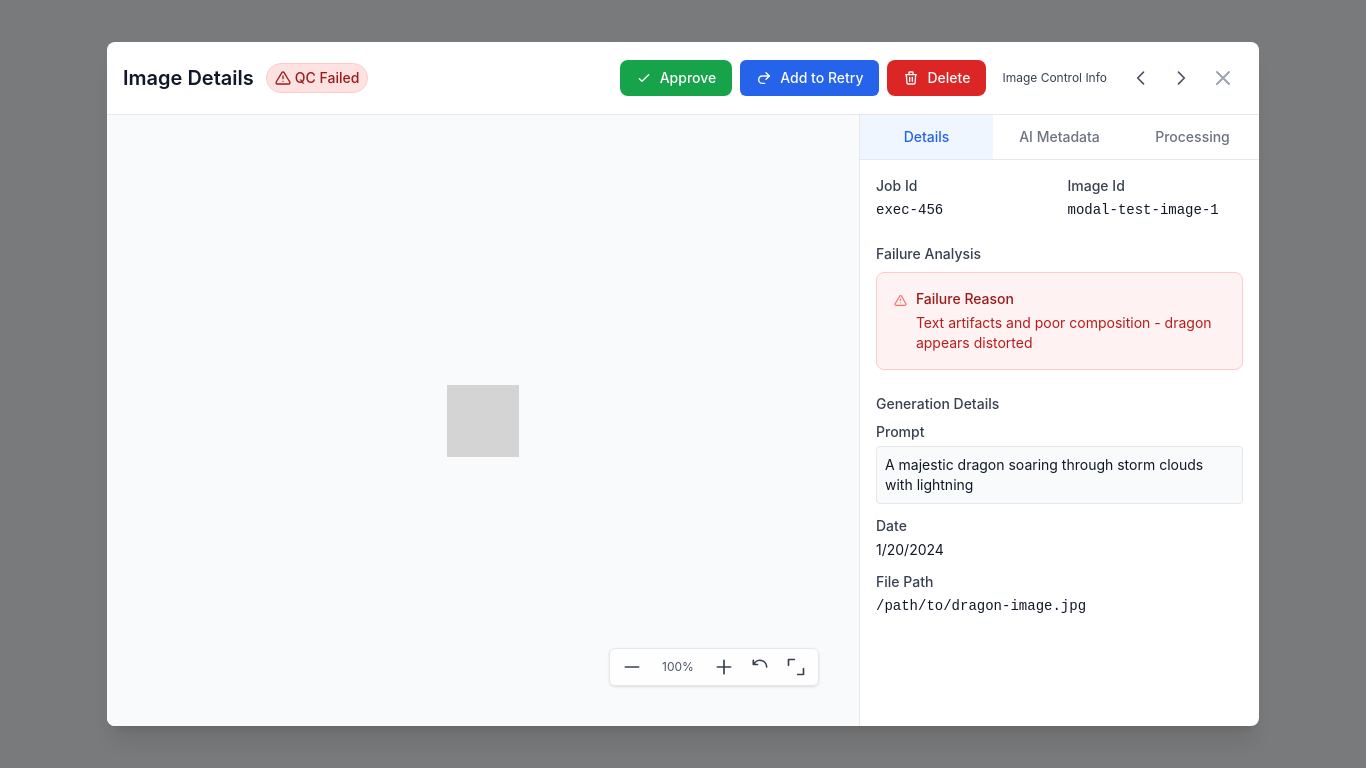
FailedImageReviewModal › AI Metadata Section › displays metadata title
Click the button "AI Metadata": coordinates (1060, 137) 993,115 -> 1126,159
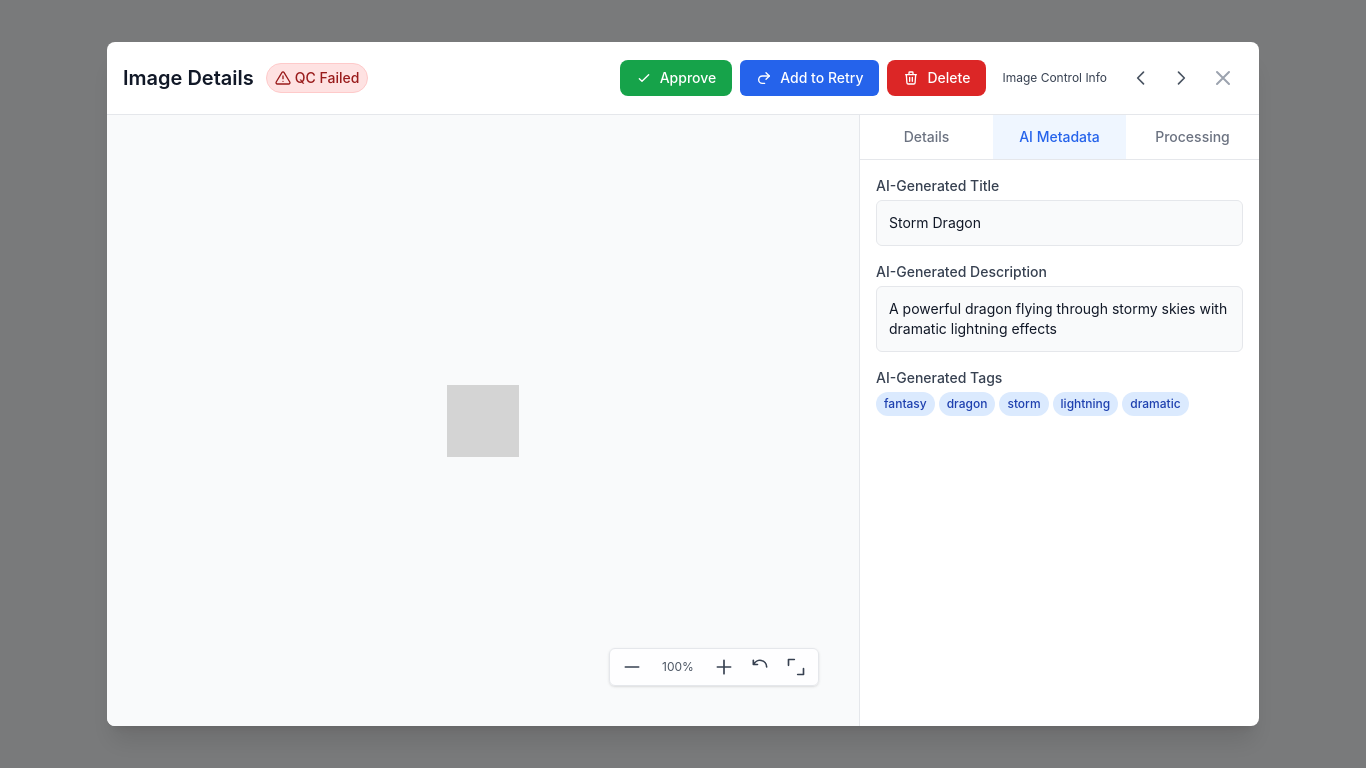
Expected: the text "AI-Generated Title" is shown, 876,177 -> 999,194
Expected: the text "Storm Dragon" is shown, 876,200 -> 1243,246
